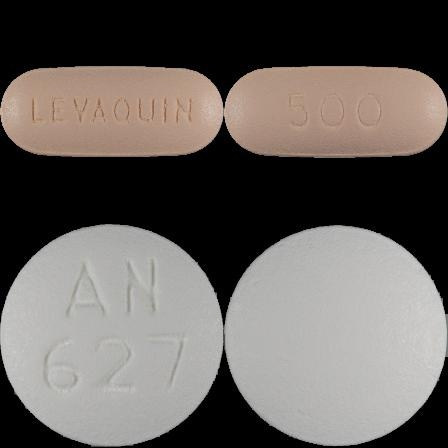55289-711: (0, 0, 224, 224)
